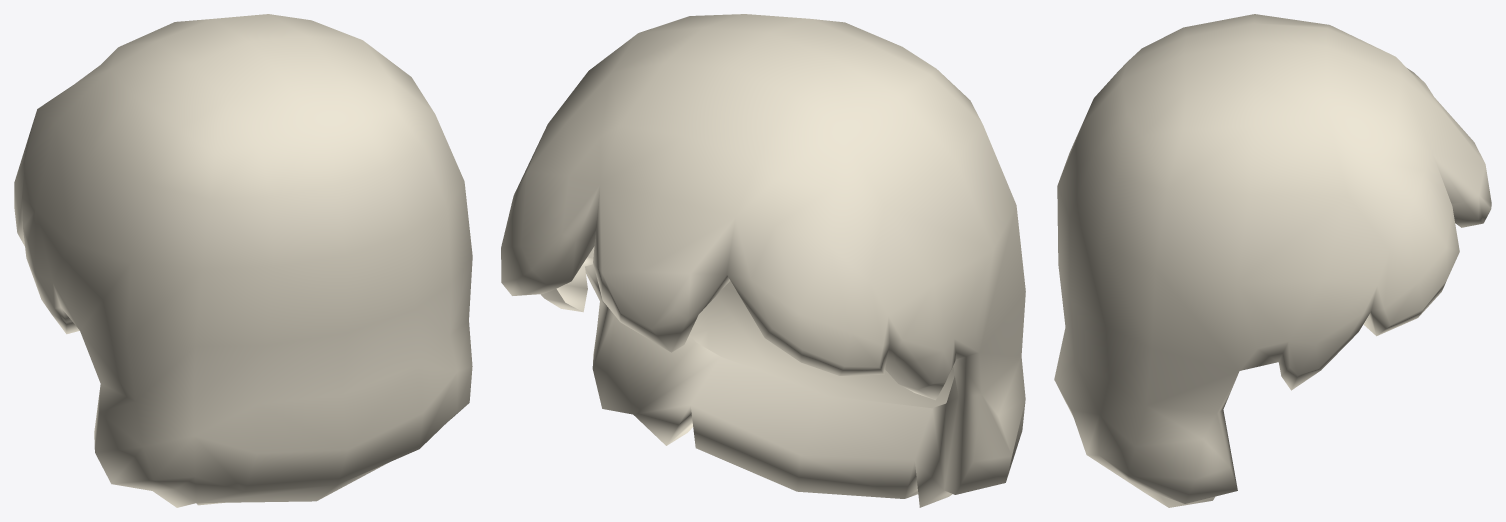
File: HairFemale_1.fbx
3 renders of one model, left to right at view 1: azimuth 30°, elevation 25°; view 2: azimuth 150°, elevation 25°; view 3: azimuth 270°, elevation 25°, orthographic. The views are drawn at different scales.
Parts seen in each view (by area): view 1: HairFemale_1; view 2: HairFemale_1; view 3: HairFemale_1.
Part boxes in pixels (box(x1,y1,x2,y2)): HairFemale_1: box(14, 14, 472, 507); HairFemale_1: box(501, 14, 1025, 507); HairFemale_1: box(1054, 14, 1491, 507).
Size of the model in its own units: 69.64 by 74.84 by 70.22.
